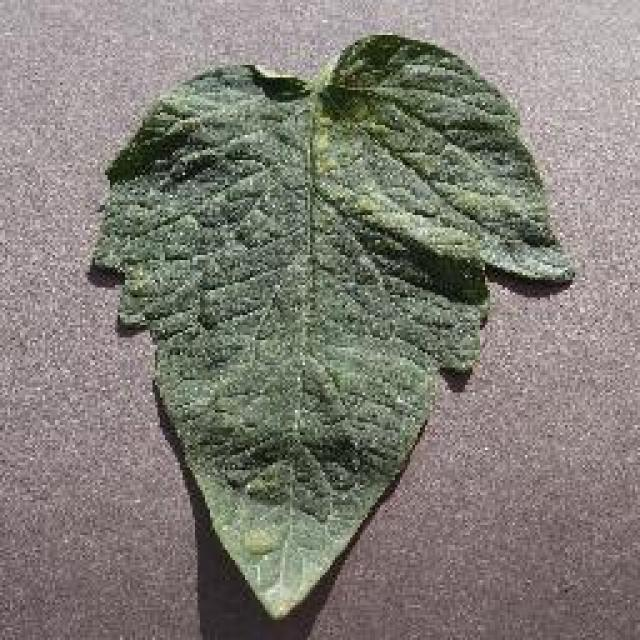Tomato___Spider_mites Two-spotted_spider_mite: (92, 35, 570, 615)
